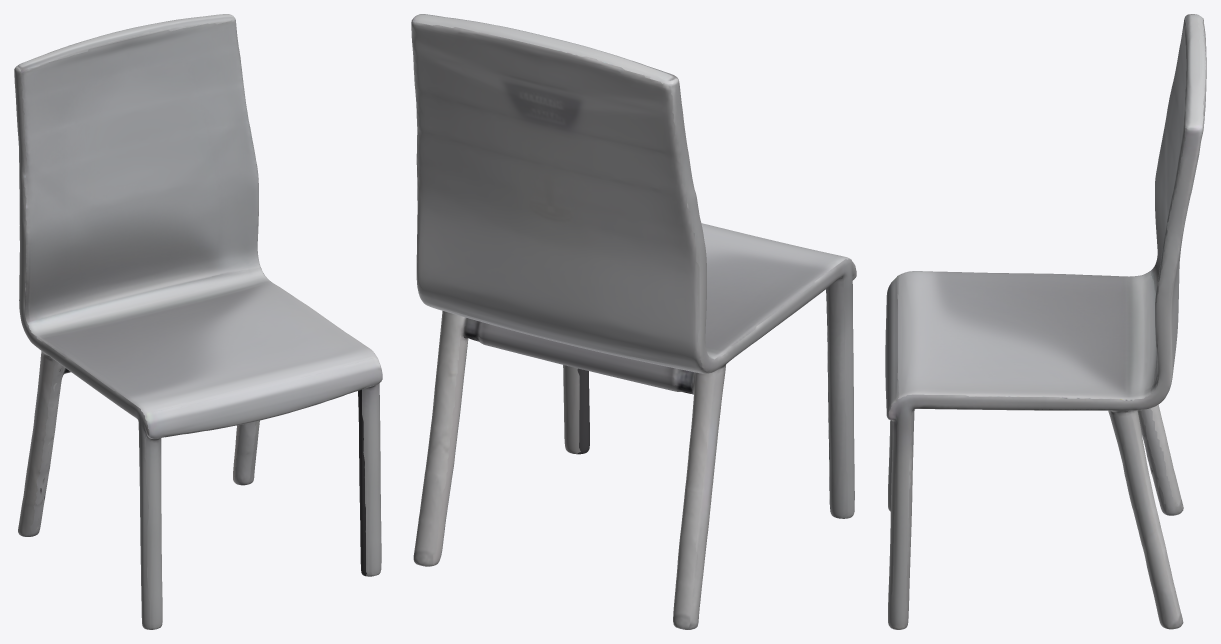
File: steelchair.fbx
The picture shows the model from 3 angles, left to right: view 1: azimuth 30°, elevation 25°; view 2: azimuth 150°, elevation 25°; view 3: azimuth 270°, elevation 25°; orthographic projection. The views are drawn at different scales.
Parts seen in each view (by area): view 1: tmpuyz0gmgs.ply; view 2: tmpuyz0gmgs.ply; view 3: tmpuyz0gmgs.ply.
Part boxes in pixels (x1,y1,x2,y2): tmpuyz0gmgs.ply: (14, 14, 382, 629); tmpuyz0gmgs.ply: (411, 14, 856, 629); tmpuyz0gmgs.ply: (885, 14, 1206, 629).
Size of the model in its own units: 52.73 by 98.86 by 56.77.
Materials: 1 (1 with a texture image).
